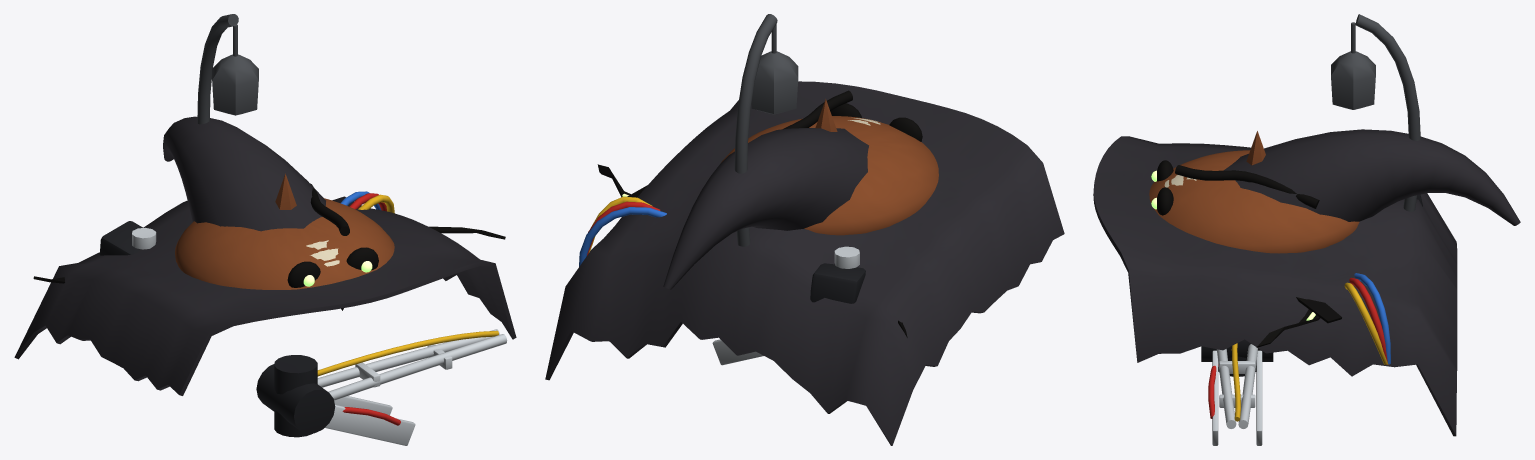
The model's file is undead-gear.glb.
The picture shows the model from 3 angles, left to right: view 1: azimuth 30°, elevation 25°; view 2: azimuth 150°, elevation 25°; view 3: azimuth 270°, elevation 25°; orthographic projection. The views are drawn at different scales.
Visible parts, largest first — view 1: crest_hood_mesh, crest_cracked-helm_mesh, undead_leg_calf_mesh, undead_leg_hip_mesh, crest_lantern_mesh, undead_gear_mesh, crest_skull-plate_mesh; view 2: crest_hood_mesh, crest_cracked-helm_mesh, crest_lantern_mesh, undead_gear_mesh, crest_skull-plate_mesh, undead_leg_hip_mesh; view 3: crest_hood_mesh, crest_cracked-helm_mesh, crest_lantern_mesh, undead_leg_calf_mesh, undead_gear_mesh, undead_leg_hip_mesh, crest_skull-plate_mesh.
Part boxes in pixels (bbox=[...]): crest_hood_mesh: bbox=[14, 116, 516, 395]; crest_cracked-helm_mesh: bbox=[175, 173, 394, 289]; undead_leg_calf_mesh: bbox=[256, 329, 507, 433]; undead_leg_hip_mesh: bbox=[274, 355, 415, 445]; crest_lantern_mesh: bbox=[197, 14, 258, 124]; undead_gear_mesh: bbox=[33, 191, 505, 283]; crest_skull-plate_mesh: bbox=[287, 240, 378, 310]; crest_hood_mesh: bbox=[545, 81, 1064, 445]; crest_cracked-helm_mesh: bbox=[721, 90, 938, 235]; crest_lantern_mesh: bbox=[734, 14, 798, 246]; undead_gear_mesh: bbox=[579, 164, 907, 337]; crest_skull-plate_mesh: bbox=[830, 103, 922, 141]; undead_leg_hip_mesh: bbox=[712, 339, 763, 365]; crest_hood_mesh: bbox=[1093, 129, 1520, 436]; crest_cracked-helm_mesh: bbox=[1149, 131, 1359, 253]; crest_lantern_mesh: bbox=[1331, 14, 1420, 211]; undead_leg_calf_mesh: bbox=[1201, 339, 1273, 428]; undead_gear_mesh: bbox=[1256, 194, 1422, 364]; undead_leg_hip_mesh: bbox=[1208, 350, 1262, 445]; crest_skull-plate_mesh: bbox=[1151, 160, 1196, 215].
Size of the model in its own units: 0.2159 by 0.2124 by 0.2136.
